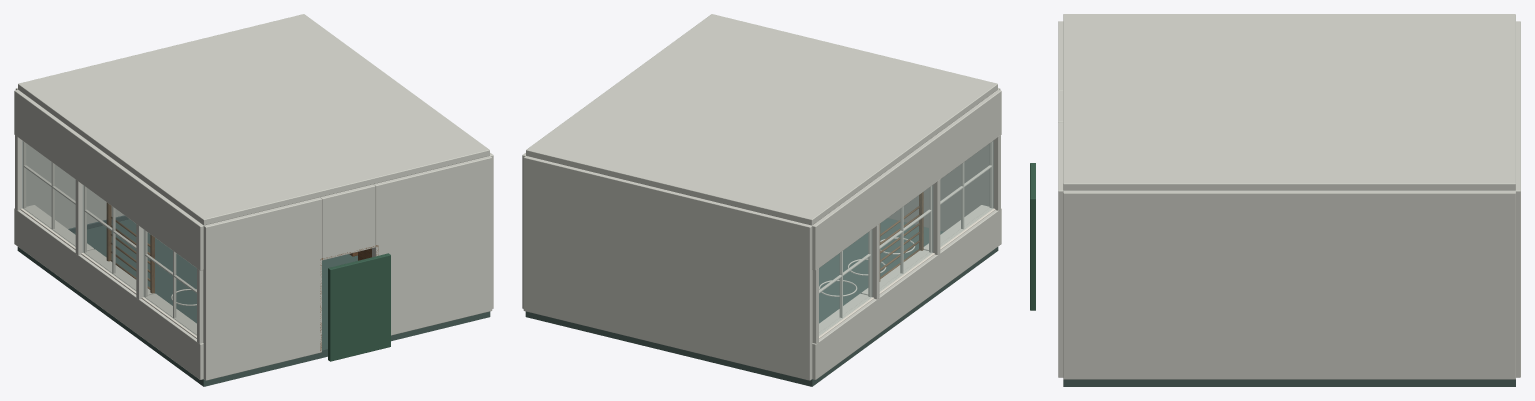
3 views of the same model, side by side, from view 1: azimuth 30°, elevation 25°; view 2: azimuth 150°, elevation 25°; view 3: azimuth 270°, elevation 25° (orthographic). The views are drawn at different scales.
Visible parts, largest first — view 1: 3-1__architecture_and_equipment; view 2: 3-1__architecture_and_equipment; view 3: 3-1__architecture_and_equipment.
Part boxes in pixels (box(x1,y1,x2,y2)): 3-1__architecture_and_equipment: box(14, 14, 493, 386); 3-1__architecture_and_equipment: box(522, 14, 1001, 386); 3-1__architecture_and_equipment: box(1030, 14, 1520, 386).
Bounding box in the file's own units: 8.2 × 4.46 × 9.76.
Materials: 10 (1 with a texture image).
